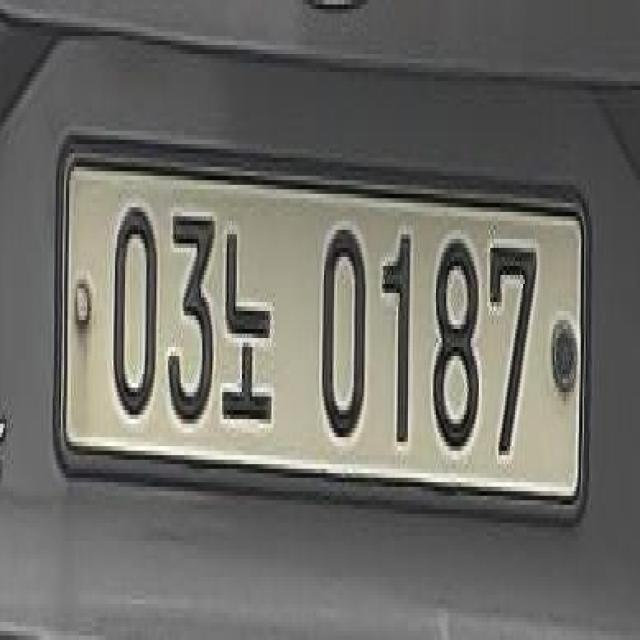illegal_plate: (60, 135, 594, 536)
